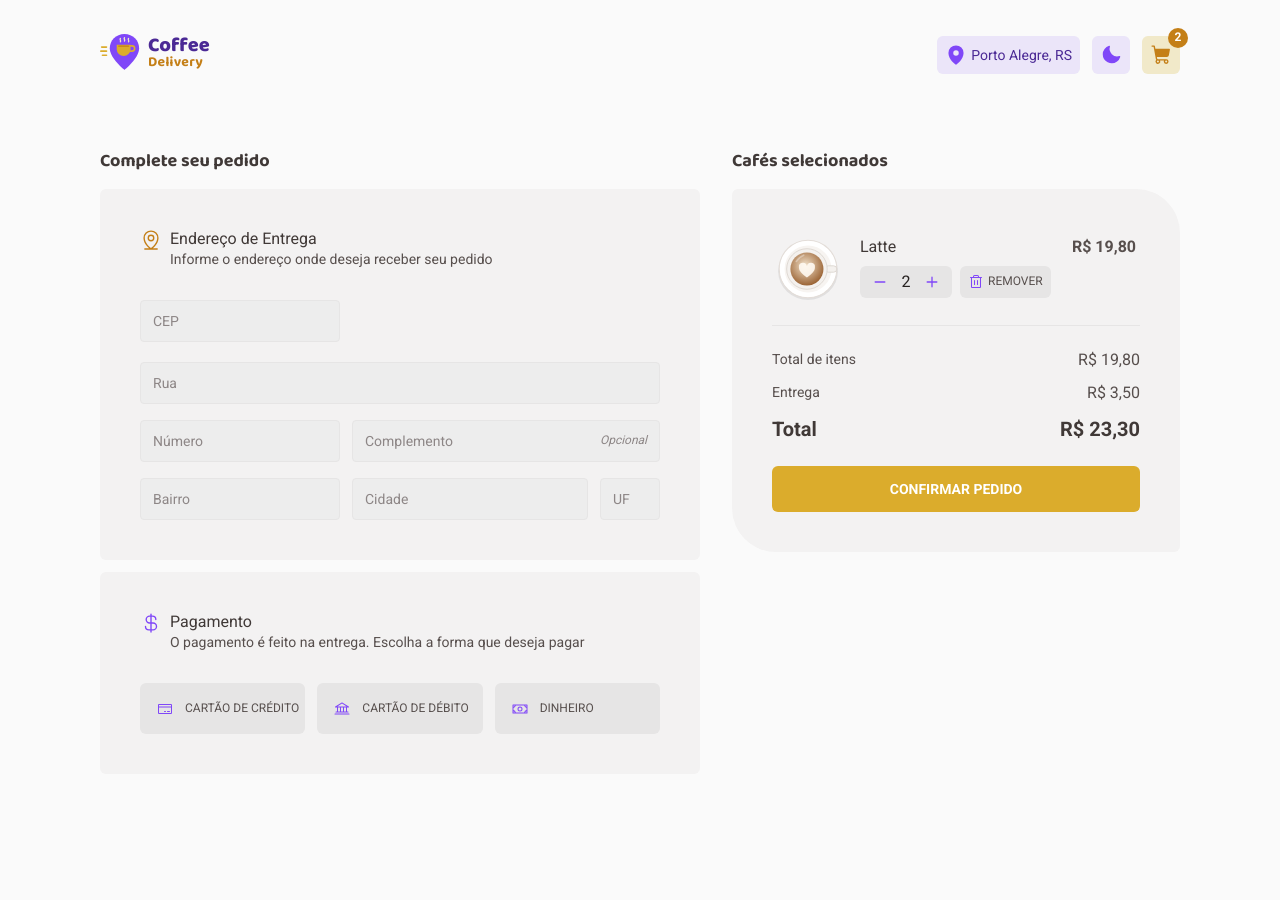
Test: Confirmação › RF-12/13: confirma o pedido, mostra o resumo e esvazia o carrinho
Type "01310100" into the field labelled "CEP" at (240, 321), box [153,301,327,341]
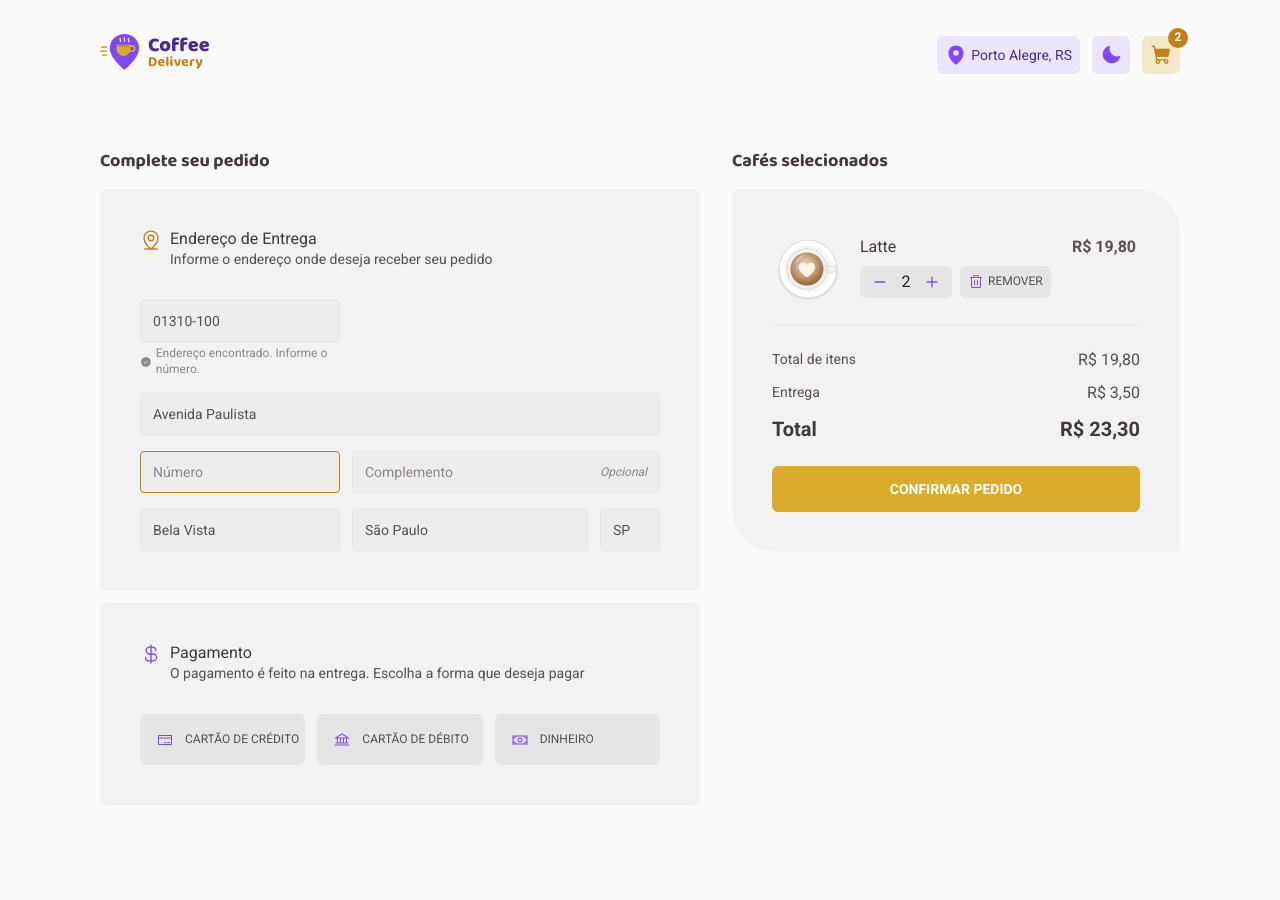
Now the 2nd field named "Rua" holds "Avenida Paulista", box [153,394,647,434]
Type "1000" into the field labelled "Número" at (240, 472), box [153,452,327,492]
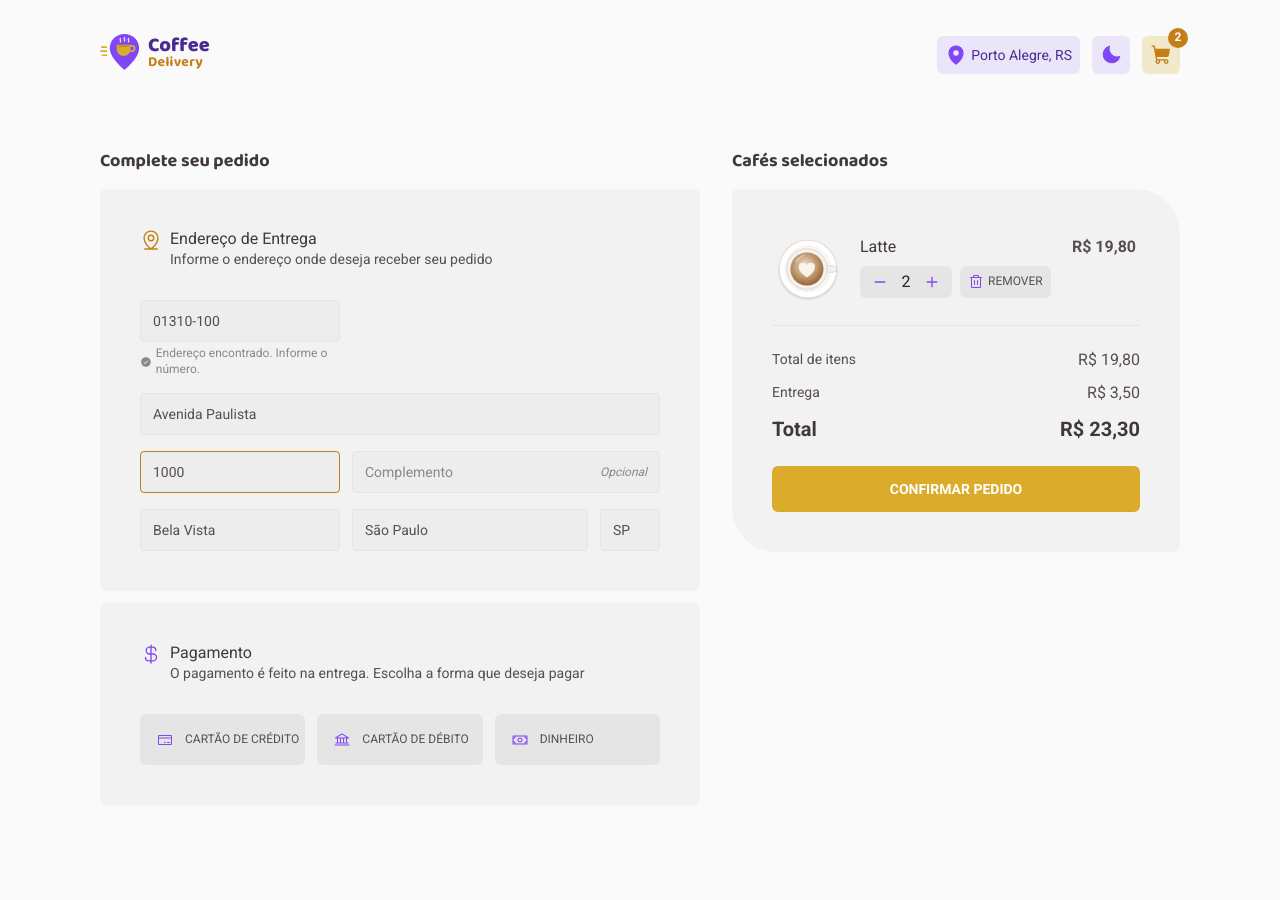
Type "Apto 42" into the field labelled "Complemento" at (482, 472), box [365,452,600,492]
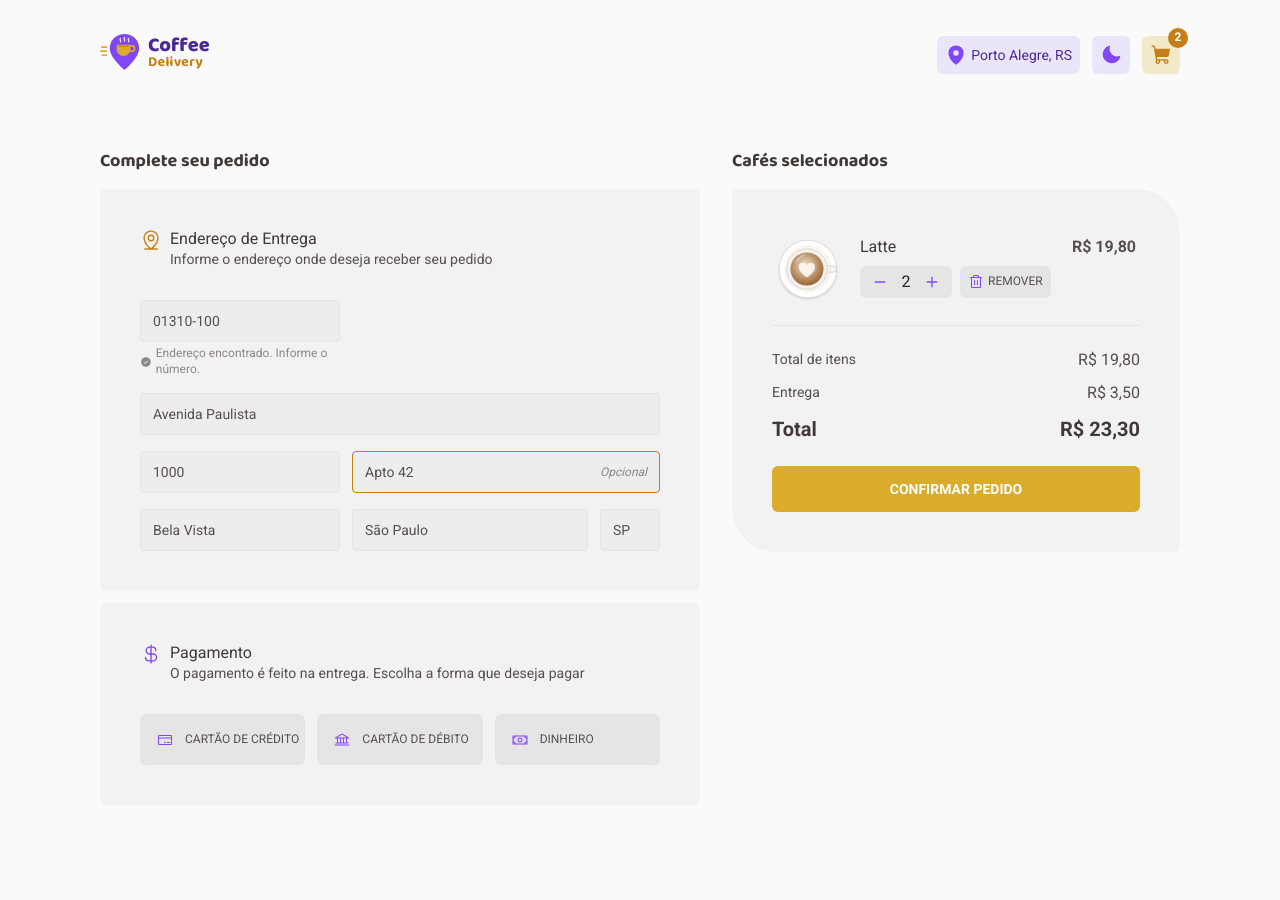
Click the text "Dinheiro" at (577, 740), box [495,714,660,765]
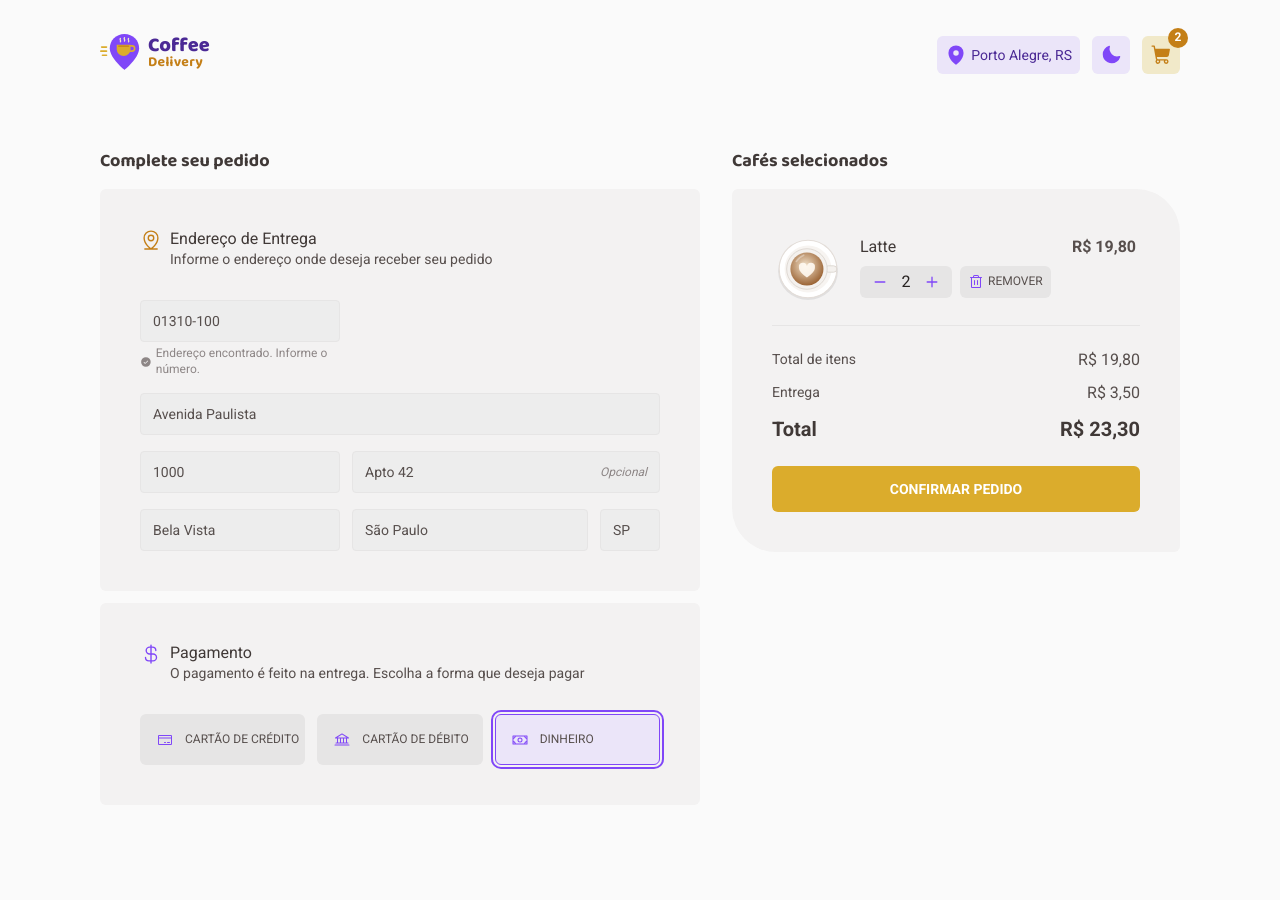
Click the button "Confirmar pedido" at (956, 489), box [772,466,1140,512]
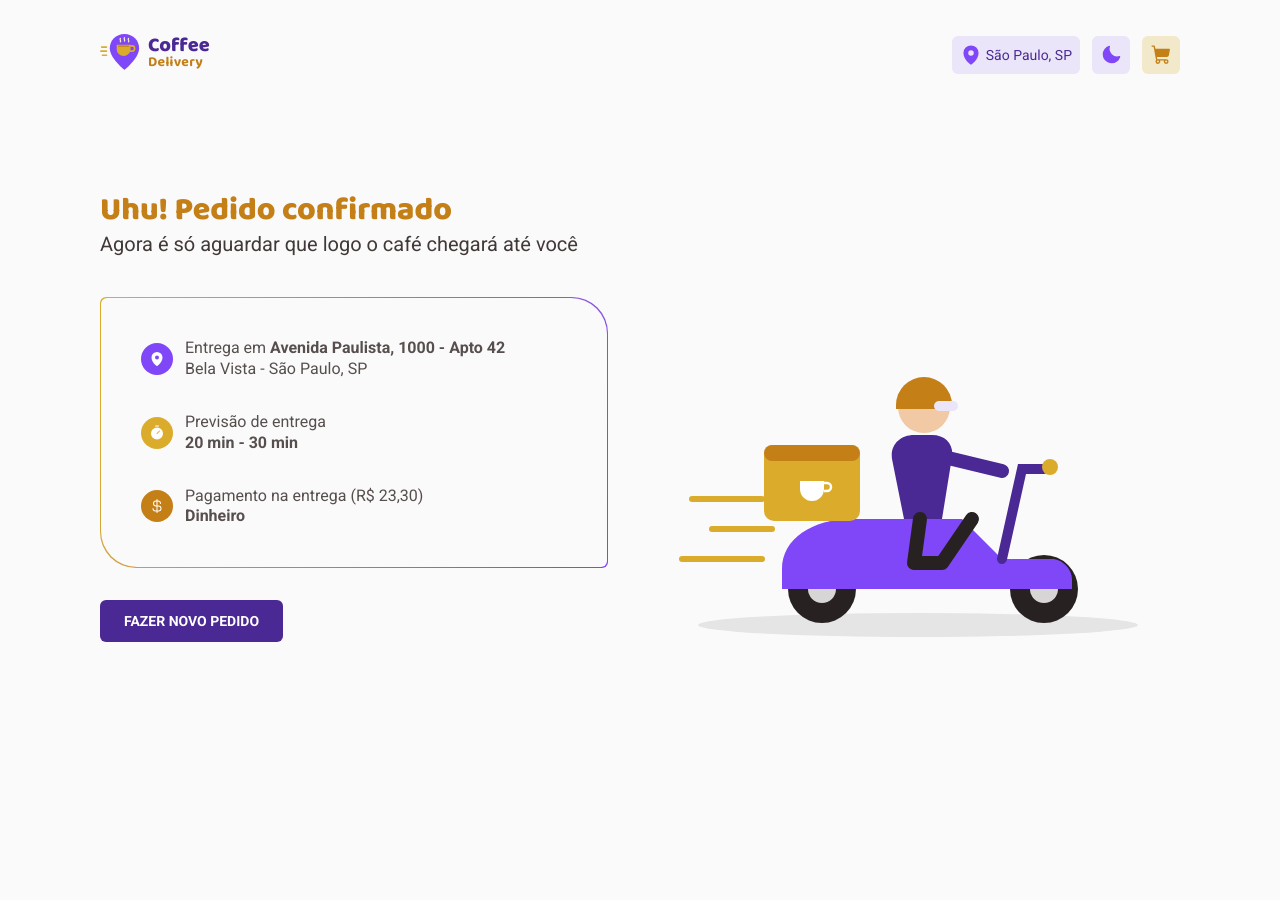
Now the heading "Uhu! Pedido confirmado" is shown, box [100,185,452,236]
Now the text "Avenida Paulista, 1000 - Apto 42" is shown, box [270,338,505,357]
Now the text "Pagamento na entrega (R$ 23,30)Dinheiro" is shown, box [185,486,423,527]
